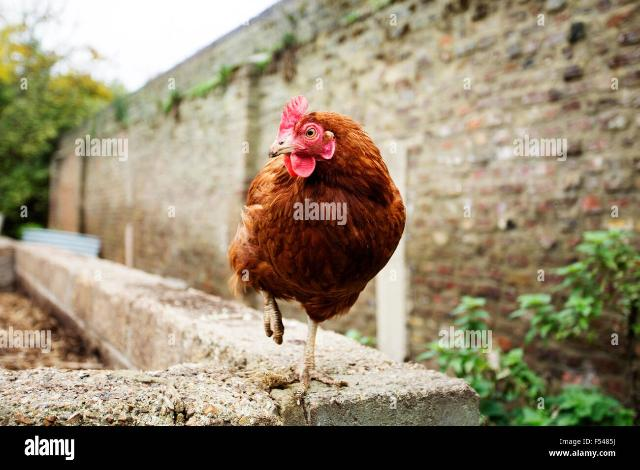Chicken: (228, 98, 406, 404)
